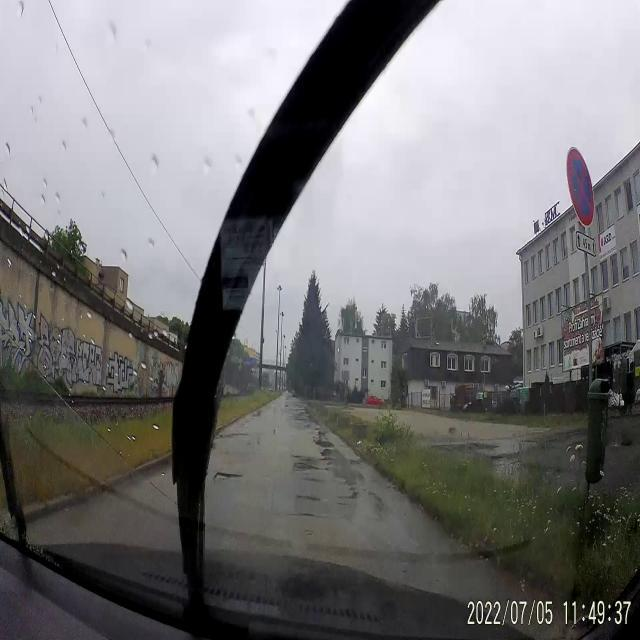Pothole: (213, 460, 246, 496), (292, 490, 323, 522), (370, 490, 390, 521), (294, 458, 332, 474), (216, 429, 249, 445), (337, 482, 362, 500), (313, 428, 337, 446), (332, 458, 350, 481), (290, 449, 312, 459), (351, 467, 364, 482), (321, 449, 344, 457), (302, 528, 314, 538), (336, 499, 348, 508), (351, 459, 364, 466)
